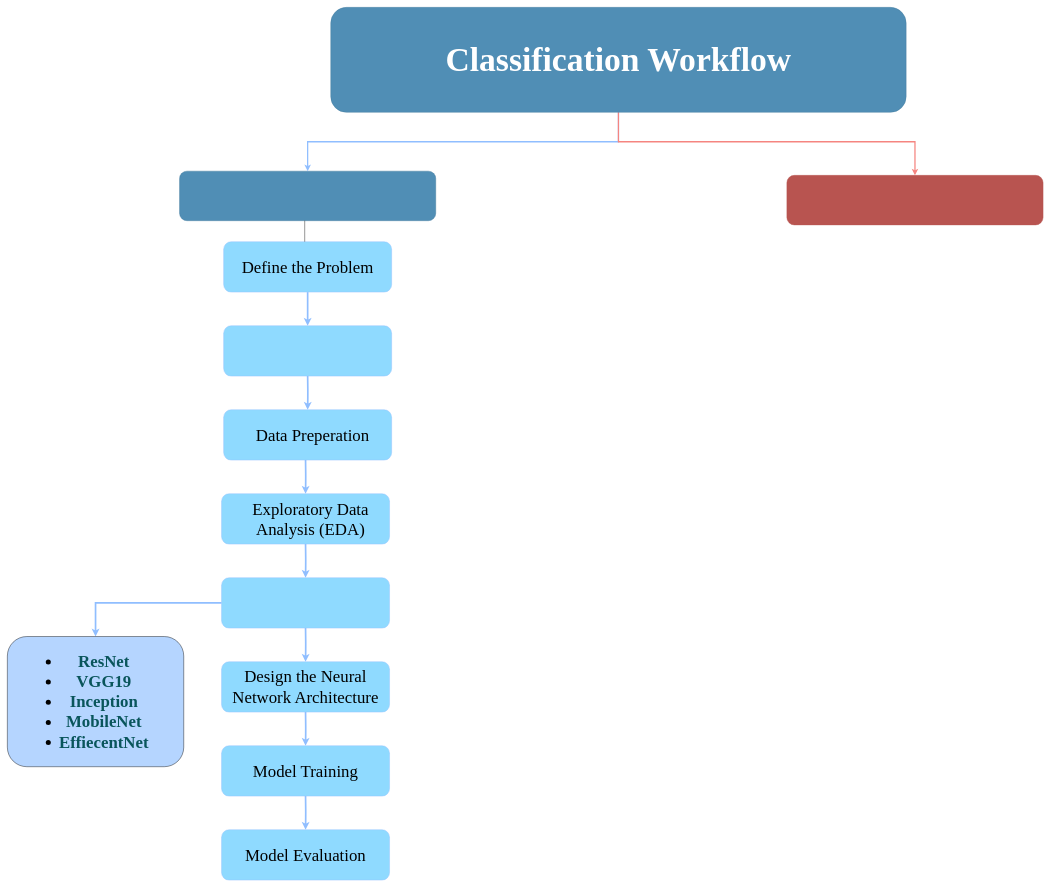
Image size: 1050x887. Some labels were removed from this diagram. The centre of each missing label's shape, as x and y in pixels:
"Data Collection" goes at pixel 307 350.
"Image Classification" goes at pixel 307 196.
"Model Selection" goes at pixel 305 602.
"Text Classfication" goes at pixel 914 200.
